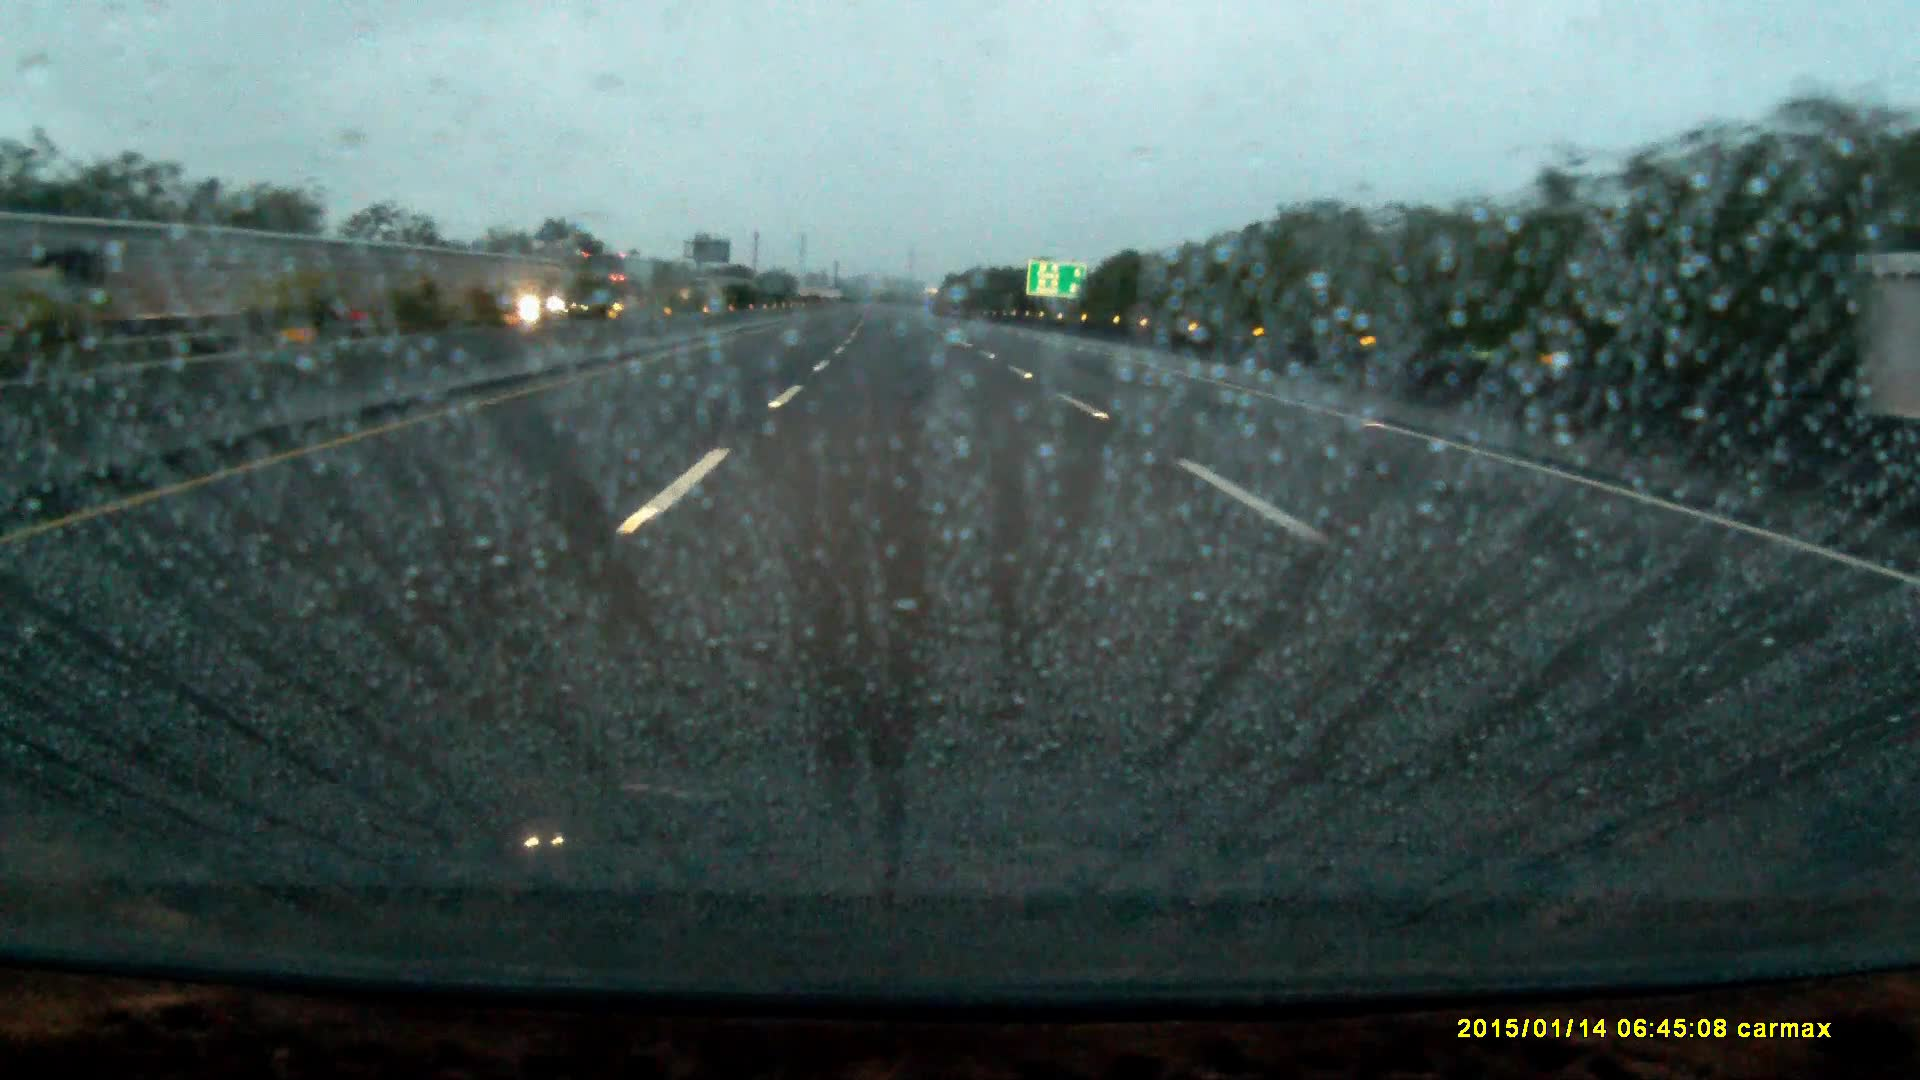vehicle: (582, 255, 659, 316), (522, 284, 583, 320)
